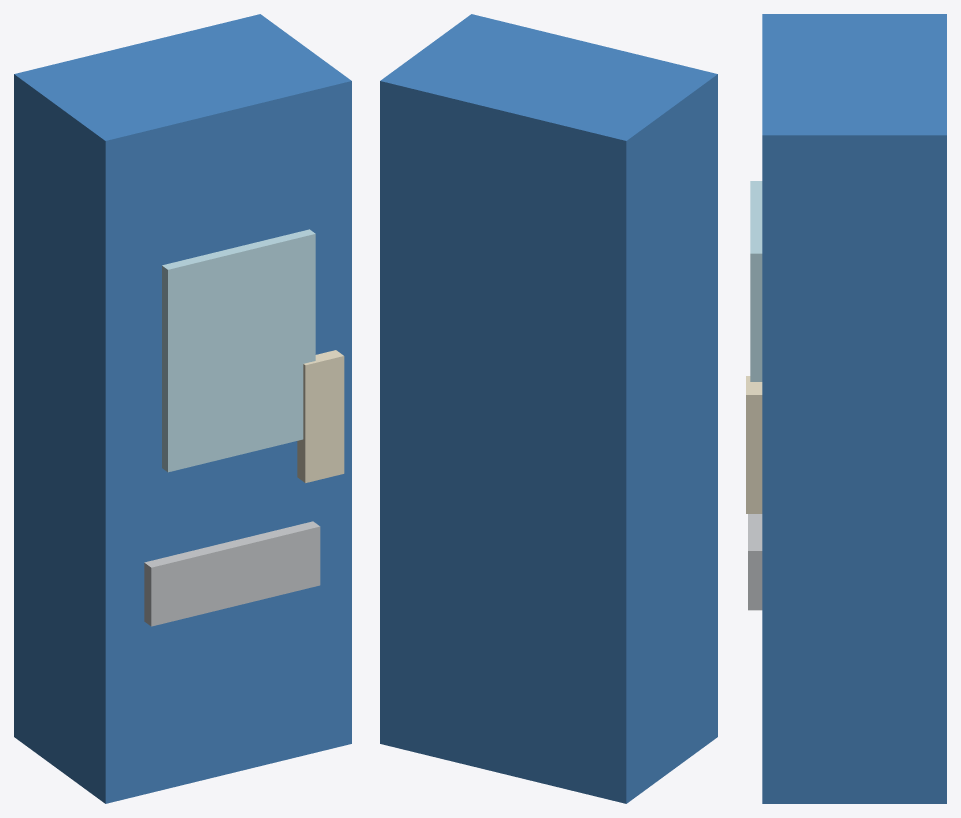
Rendered from vending_machine_01_prompt3d_raw.glb.
The picture shows the model from 3 angles, left to right: view 1: azimuth 30°, elevation 25°; view 2: azimuth 150°, elevation 25°; view 3: azimuth 270°, elevation 25°; orthographic projection.
Parts seen in each view (by area): view 1: asset_root; view 2: asset_root; view 3: asset_root.
Boxes of the visible parts, left/top/right/bottom form: asset_root: left=14, top=14, right=351, bottom=803; asset_root: left=380, top=14, right=717, bottom=803; asset_root: left=746, top=14, right=946, bottom=803.
Bounding box in the file's own units: 0.7 × 1.8 × 0.49.
